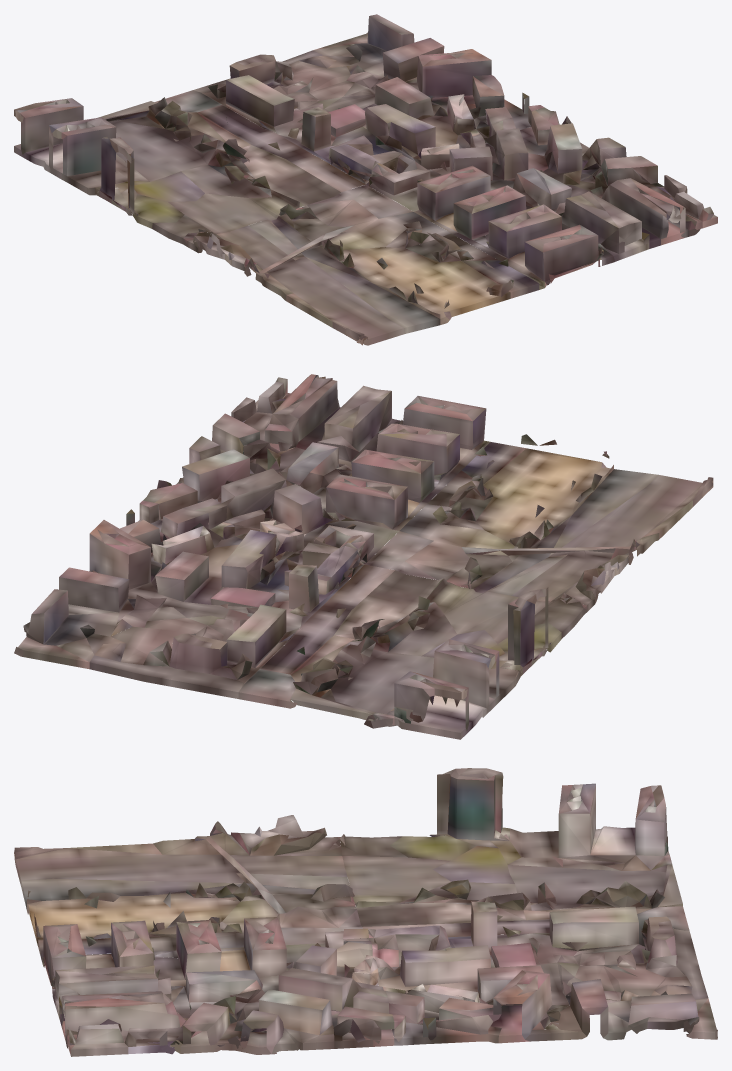
3 views of the same model, one above another, from view 1: azimuth 30°, elevation 25°; view 2: azimuth 150°, elevation 25°; view 3: azimuth 270°, elevation 25° (orthographic). The views are drawn at different scales.
Parts seen in each view (by area): view 1: Mesh_0; view 2: Mesh_0; view 3: Mesh_0.
Part boxes in pixels (x1,y1,x2,y2): Mesh_0: (14,14,717,345); Mesh_0: (14,374,713,739); Mesh_0: (14,768,717,1056).
Size of the model in its own units: 533 by 82.12 by 660.
2 materials, 2 textured.
